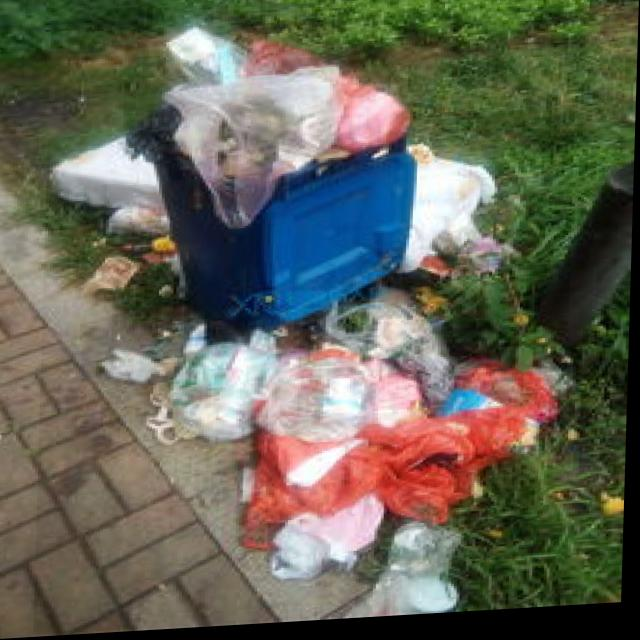garbage: (37, 114, 576, 636)
overflow: (119, 17, 419, 341)
